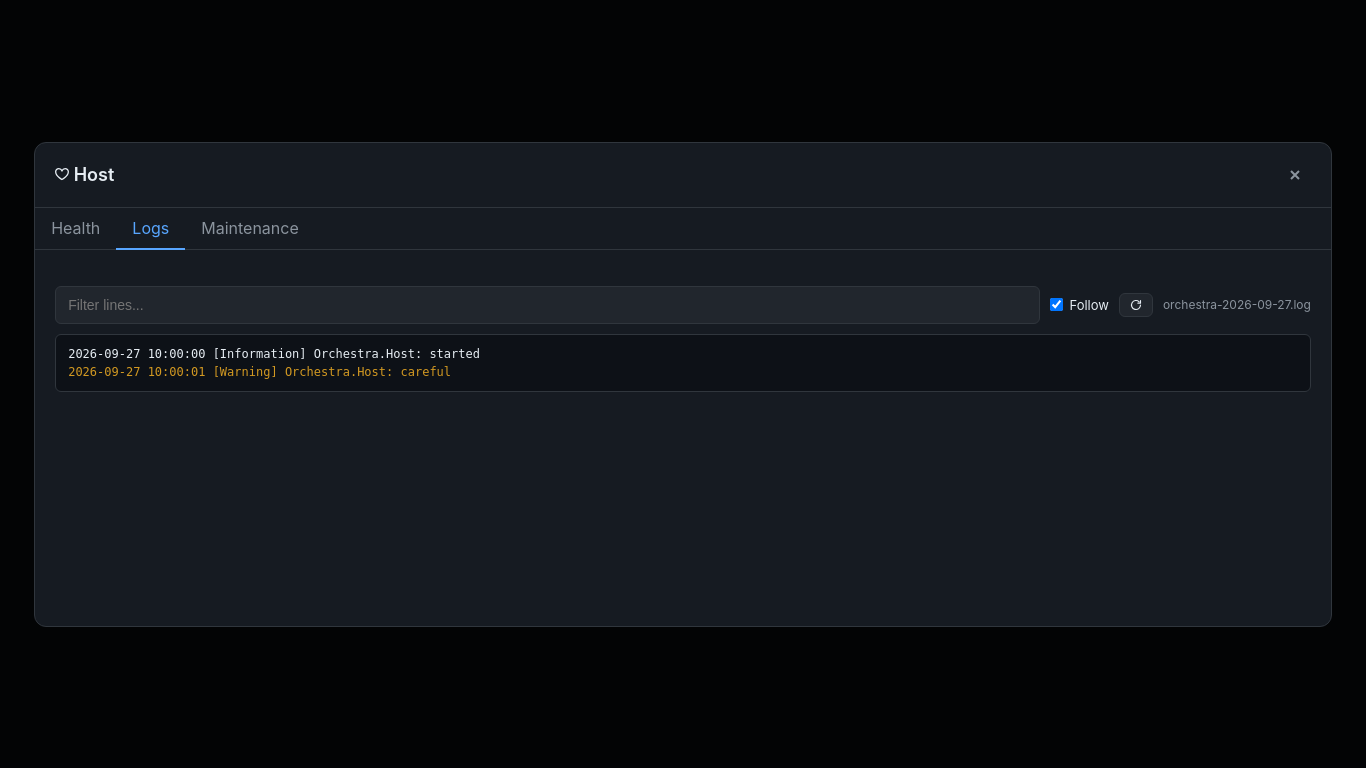
Scenario: HostModal › logs tab shows the tail, colours levels and filters lines
expect the element with test id "log-lines" is shown: met, box [55,334,1311,392]
expect the number of elements with class "host-log-line" is 2: met, box [68,346,480,360]; [68,364,451,378]
In the search field named "Filter log lines": (548, 304) [55,286,1040,324], type "careful"
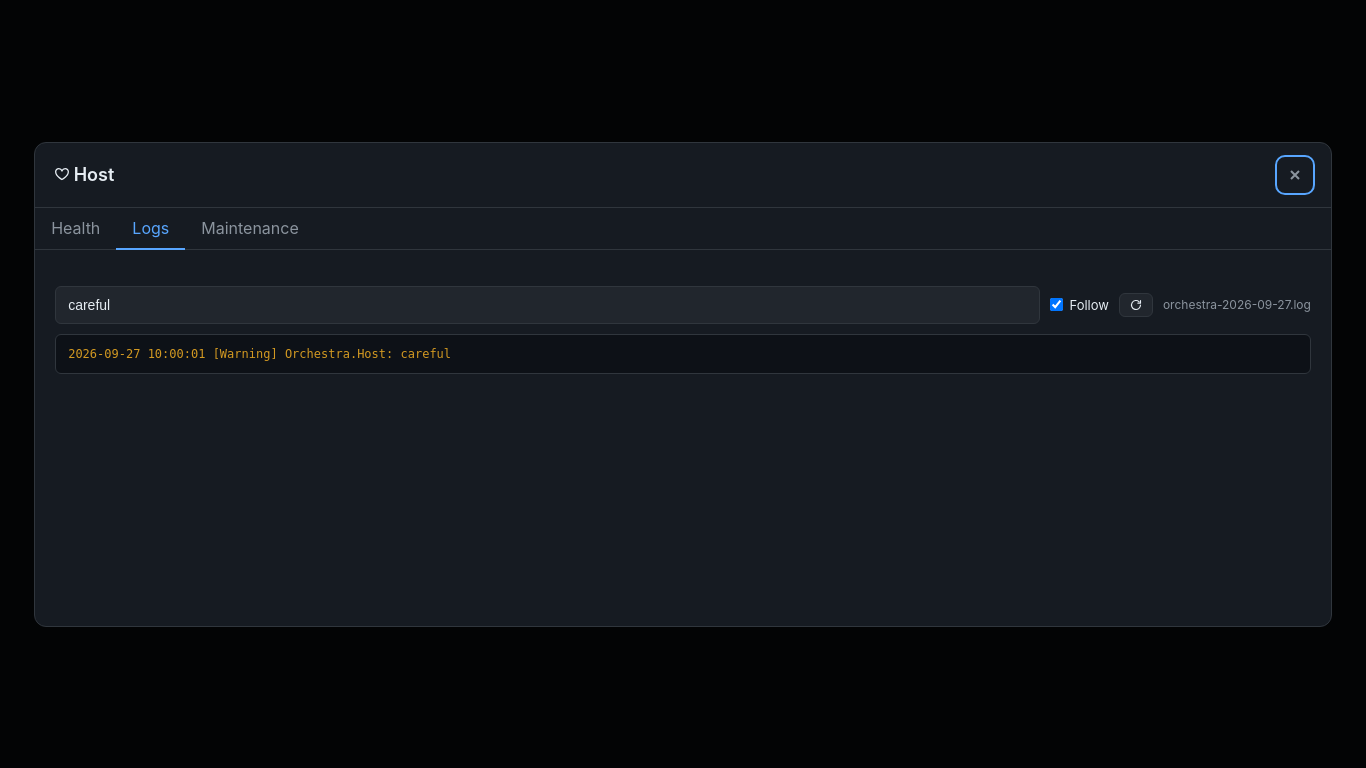
expect the text "started" is gone: met
expect the text "2026-09-27 10:00:01 [Warning] Orchestra.Host: careful" is shown: met, box [68,346,451,360]
